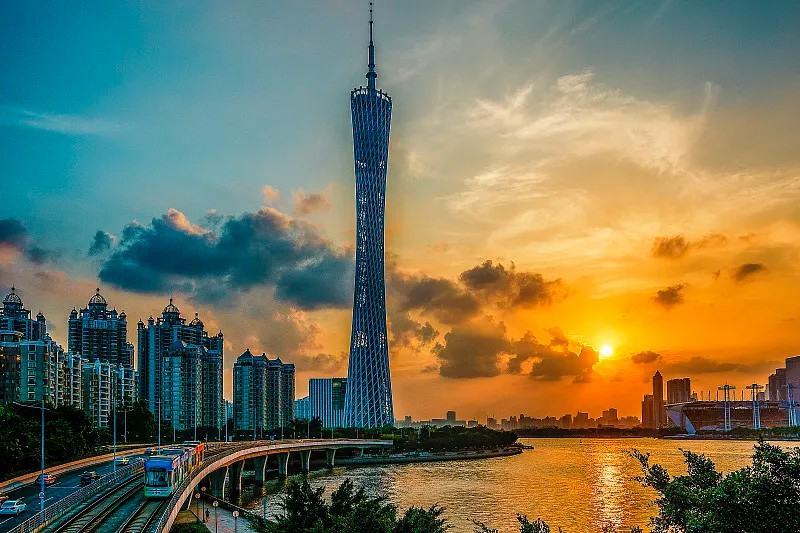Canton: (339, 3, 397, 431)
